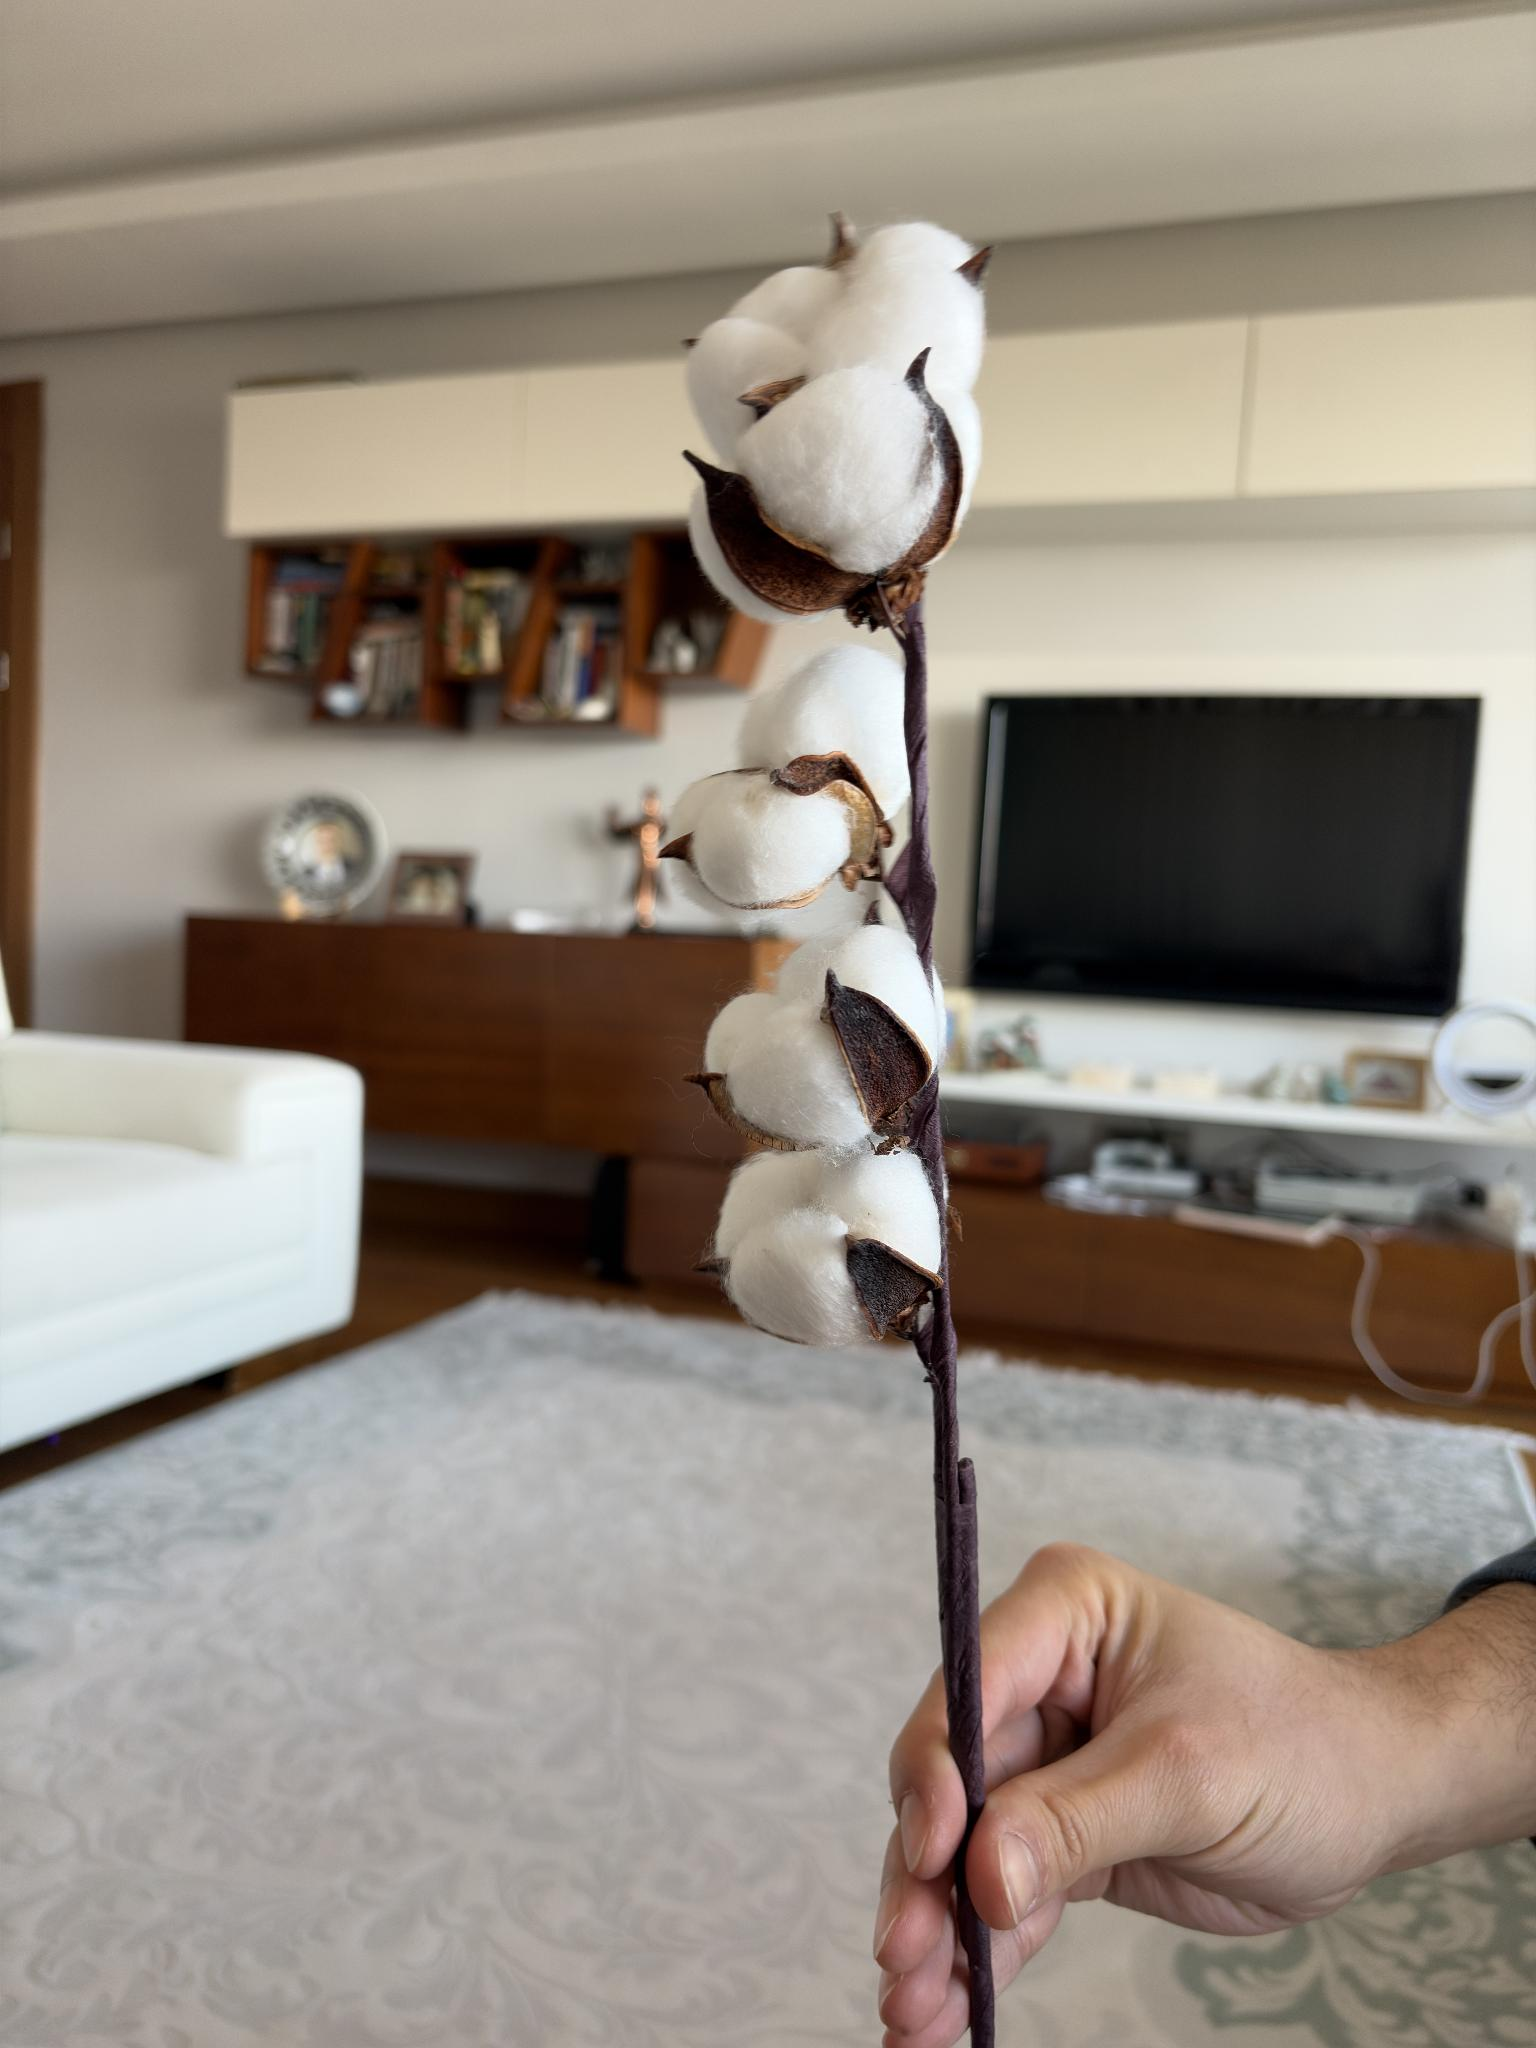cotton_boll: (691, 924, 941, 1151), (713, 1148, 941, 1347), (737, 363, 942, 574), (807, 223, 986, 405), (739, 647, 910, 816), (676, 771, 874, 910), (776, 924, 942, 1055), (686, 316, 805, 468), (689, 485, 789, 624), (744, 880, 884, 943), (731, 266, 842, 340), (928, 373, 983, 521), (702, 992, 776, 1072)
cotton_boll-cluster: (663, 163, 1005, 647), (674, 634, 928, 922), (702, 906, 954, 1153), (703, 1151, 952, 1353)
